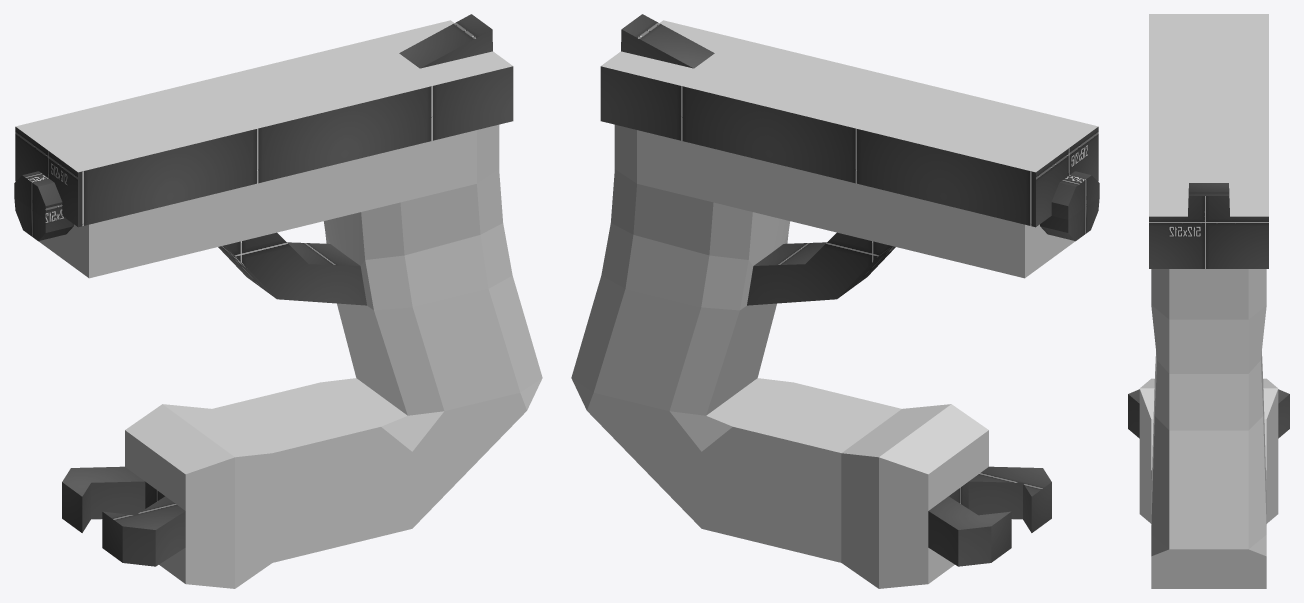
File: gu-i-mean-dispatching-implementfbx.fbx
3 renders of one model, left to right at view 1: azimuth 30°, elevation 25°; view 2: azimuth 150°, elevation 25°; view 3: azimuth 270°, elevation 25°, orthographic. The views are drawn at different scales.
Visible parts, largest first — view 1: Cube.011; view 2: Cube.011; view 3: Cube.011.
Part boxes in pixels (box(x1,y1,x2,y2)): Cube.011: box(14, 14, 542, 588); Cube.011: box(571, 14, 1099, 588); Cube.011: box(1128, 14, 1289, 588).
Bounding box in the file's own units: 234 × 215 × 70.
